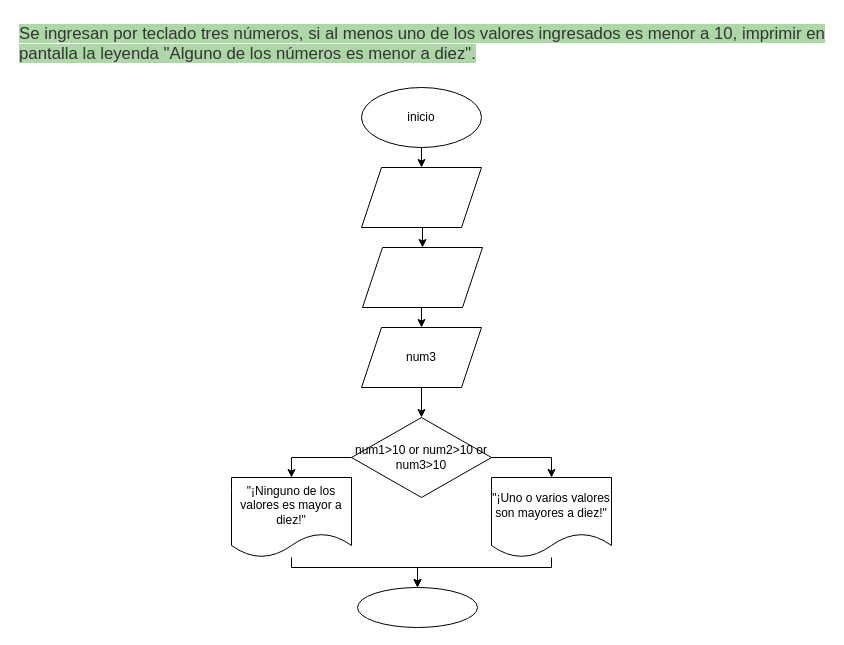
Image size: 844x645. Some labels were removed from this diagram. Here are the shapes that lost their labels. From the top down, the centre of each, then its label:
At point 421,197: "num1".
At point 422,277: "num2".
At point 417,607: "fin".
